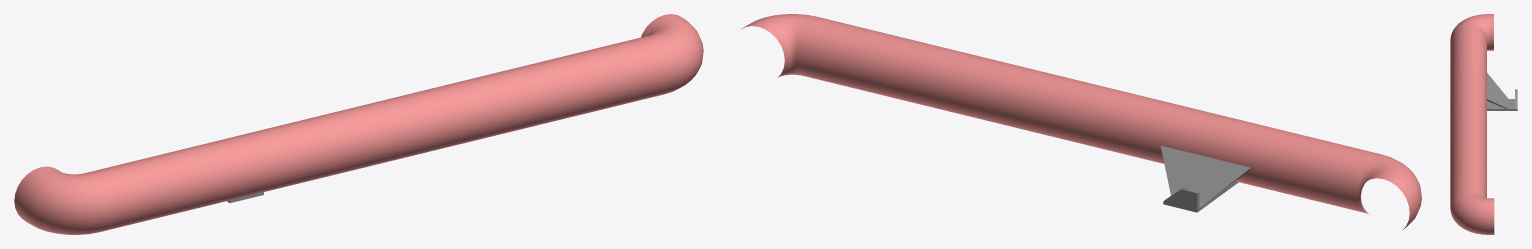
File: SM_Sliv_All_Truba_03.gltf
3 views of the same model, side by side, from view 1: azimuth 30°, elevation 25°; view 2: azimuth 150°, elevation 25°; view 3: azimuth 270°, elevation 25° (orthographic). The views are drawn at different scales.
Parts seen in each view (by area): view 1: SM_Sliv_All_Truba_03; view 2: SM_Sliv_All_Truba_03; view 3: SM_Sliv_All_Truba_03.
Part boxes in pixels (x1,y1,x2,y2): SM_Sliv_All_Truba_03: (14,14,703,234); SM_Sliv_All_Truba_03: (741,14,1421,229); SM_Sliv_All_Truba_03: (1450,14,1517,234).
Bounding box in the file's own units: 1.67 × 0.141 × 0.2387.
